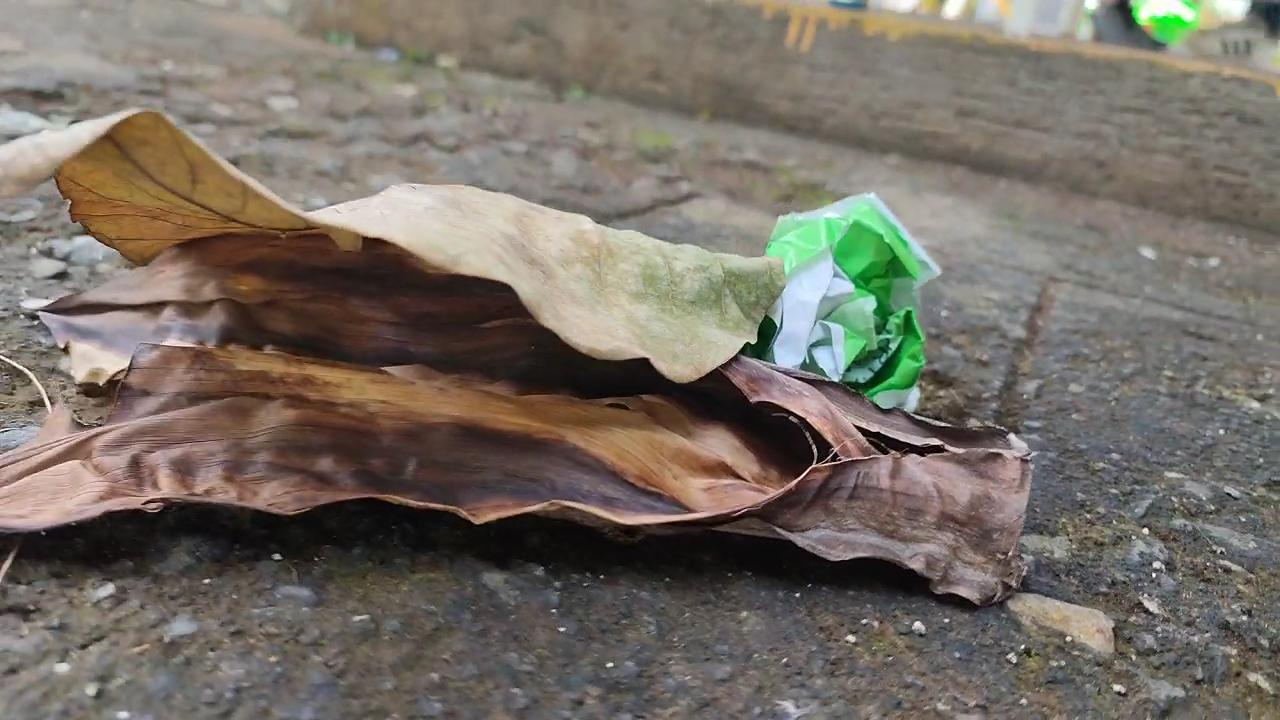Paper: (729, 180, 951, 423)
